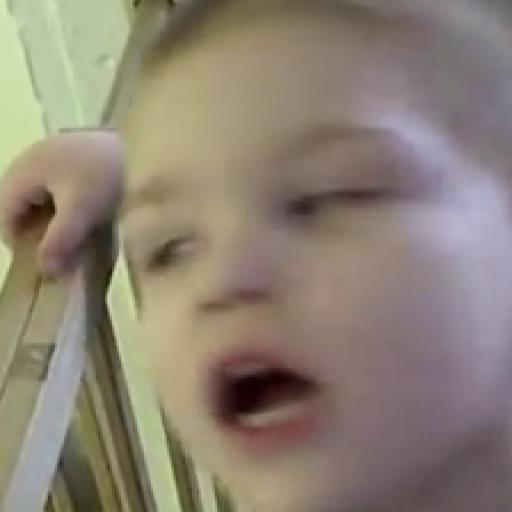Autism: (111, 9, 512, 512)
